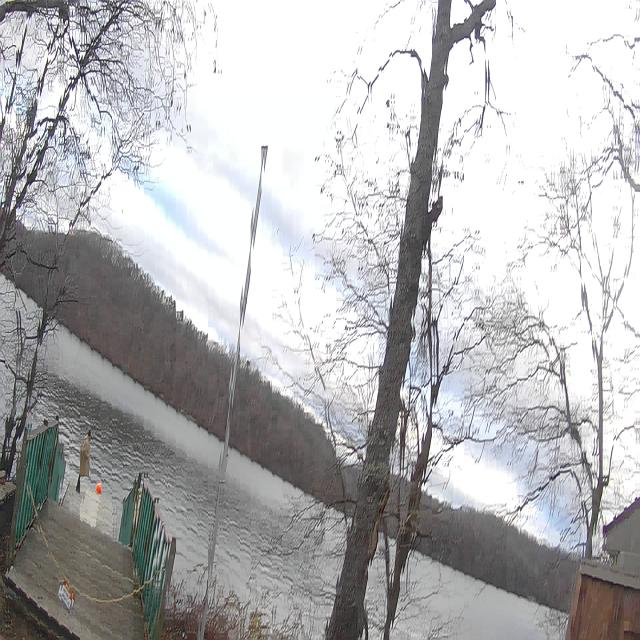Buoy: (95, 480, 103, 496)
